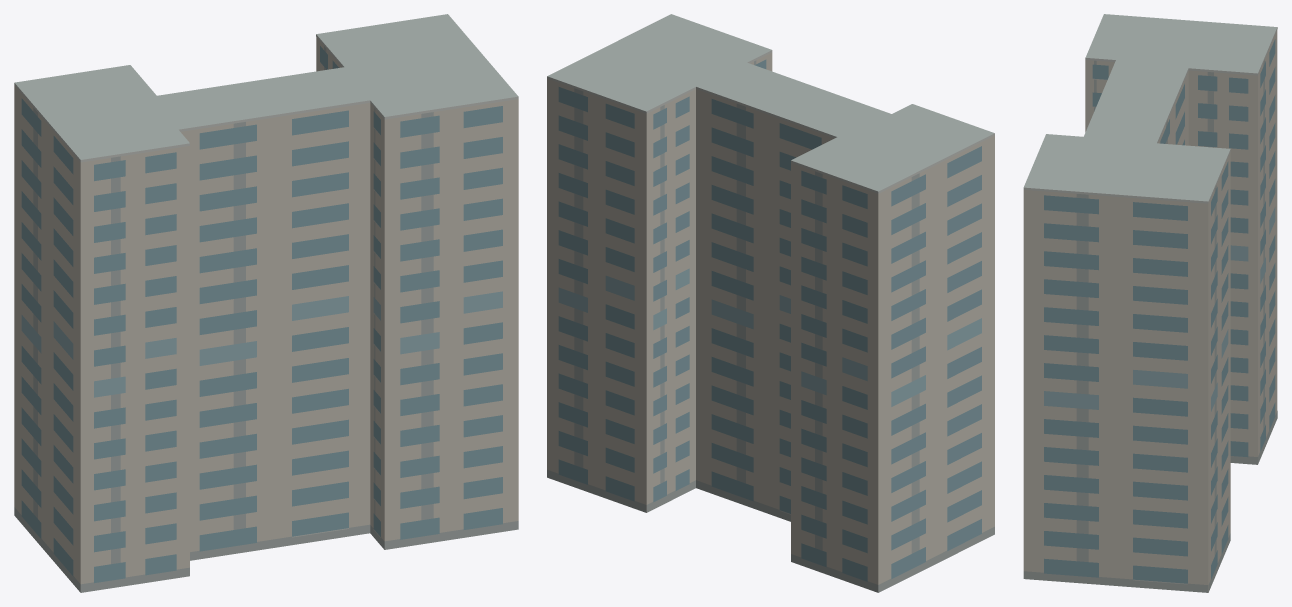
The model's file is residential-9f37bf6d-0b5c-4c27-9fdd-a16b05fa5d01.glb.
3 views of the same model, side by side, from view 1: azimuth 30°, elevation 25°; view 2: azimuth 150°, elevation 25°; view 3: azimuth 270°, elevation 25° (orthographic). The views are drawn at different scales.
Visible parts, largest first — view 1: residential-9f37bf6d-0b5c-4c27-9fdd-a16b05fa5d01.tmp; view 2: residential-9f37bf6d-0b5c-4c27-9fdd-a16b05fa5d01.tmp; view 3: residential-9f37bf6d-0b5c-4c27-9fdd-a16b05fa5d01.tmp.
Part boxes in pixels (x1=…): residential-9f37bf6d-0b5c-4c27-9fdd-a16b05fa5d01.tmp: x1=14, y1=14, x2=518, y2=592; residential-9f37bf6d-0b5c-4c27-9fdd-a16b05fa5d01.tmp: x1=547, y1=14, x2=994, y2=592; residential-9f37bf6d-0b5c-4c27-9fdd-a16b05fa5d01.tmp: x1=1023, y1=14, x2=1277, y2=592.
Size of the model in its own units: 44.2 by 43 by 25.29.
